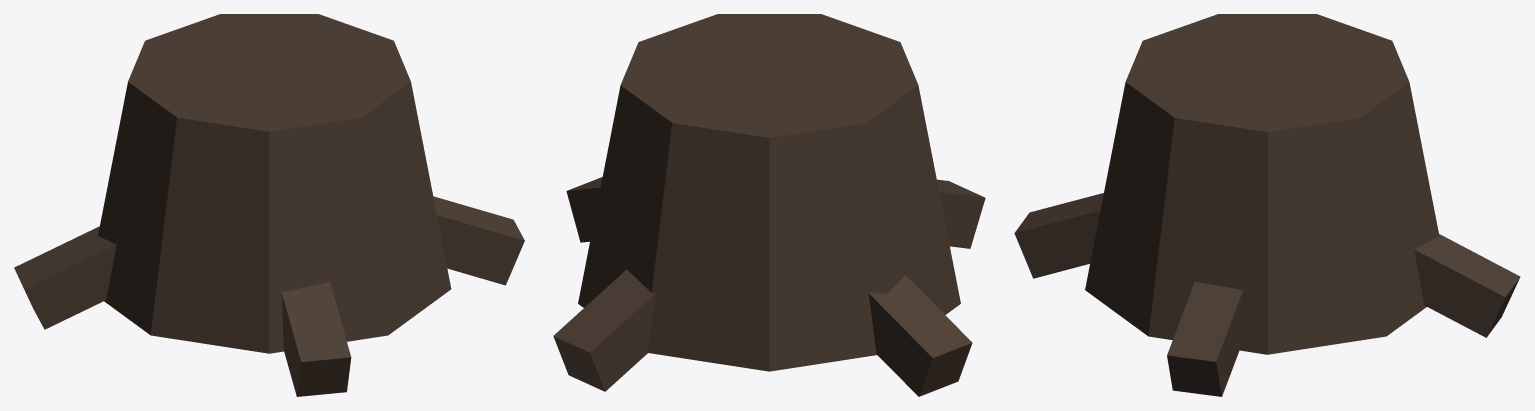
The model's file is stump.fbx.
3 renders of one model, left to right at view 1: azimuth 30°, elevation 25°; view 2: azimuth 150°, elevation 25°; view 3: azimuth 270°, elevation 25°, orthographic. The views are drawn at different scales.
Parts seen in each view (by area): view 1: stump; view 2: stump; view 3: stump.
Boxes of the visible parts, x1,y1,x2,y2 form: stump: [14, 14, 524, 396]; stump: [553, 14, 985, 396]; stump: [1014, 14, 1520, 396].
Size of the model in its own units: 492 by 243 by 492.
